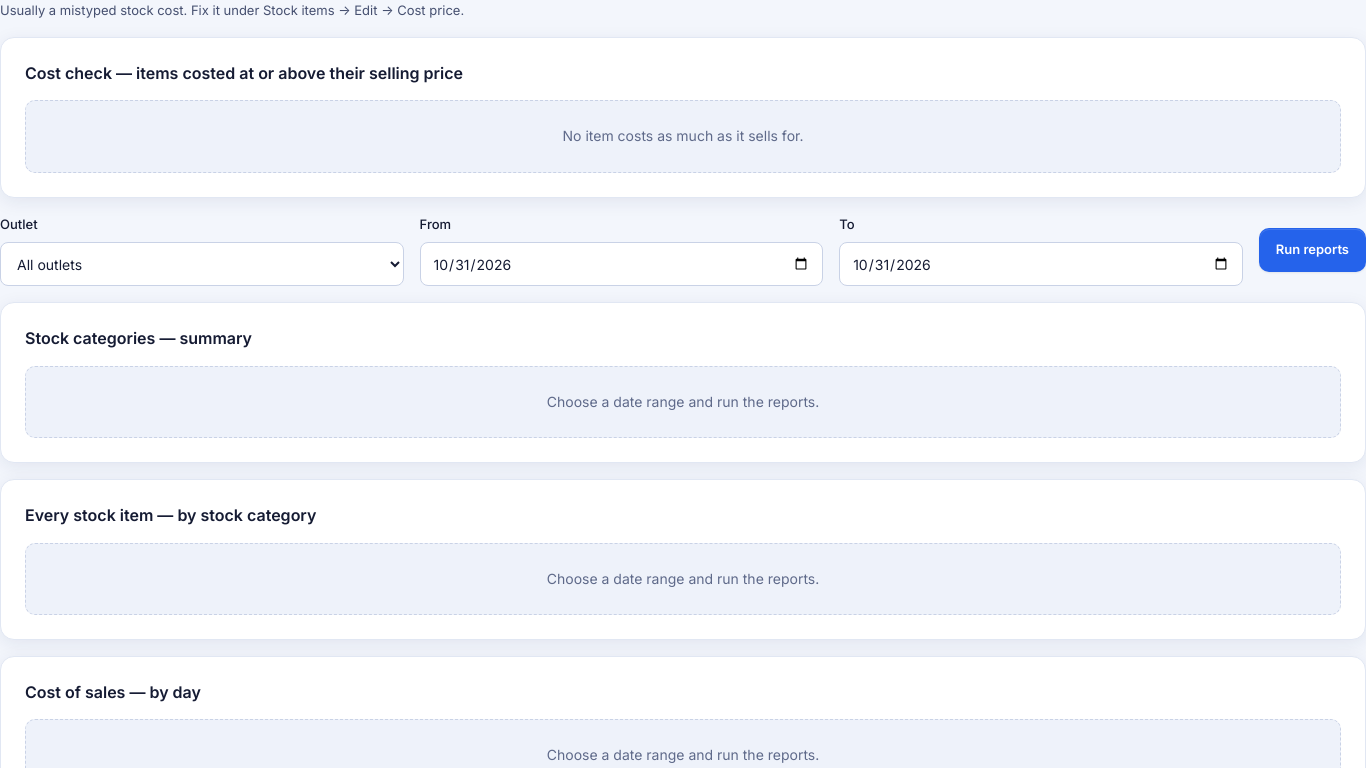
Scenario: <StockReportsTab> › margin report (gap closure) › renders a genuinely unknown cost as "Unknown", never a false zero, and notes how many items are excluded
The width and height of the screenshot is (1366, 768).
Click the button "Run reports": click(1312, 250) [1259,228,1365,272]
(page scrolled)
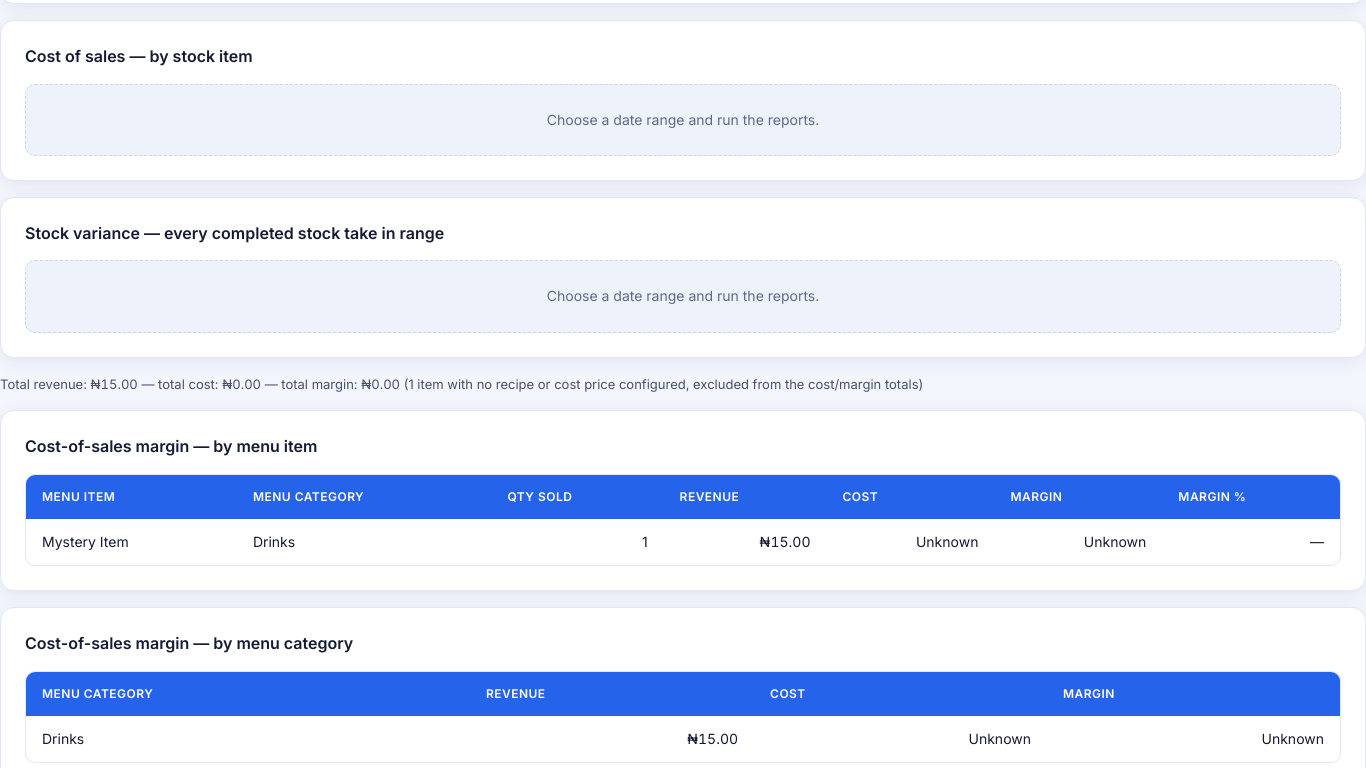
Result: the 1st text "Unknown" is shown at [826,518,994,565]
Result: the text "1 item with no recipe or cost price configured" is shown at [400,376,923,392]
